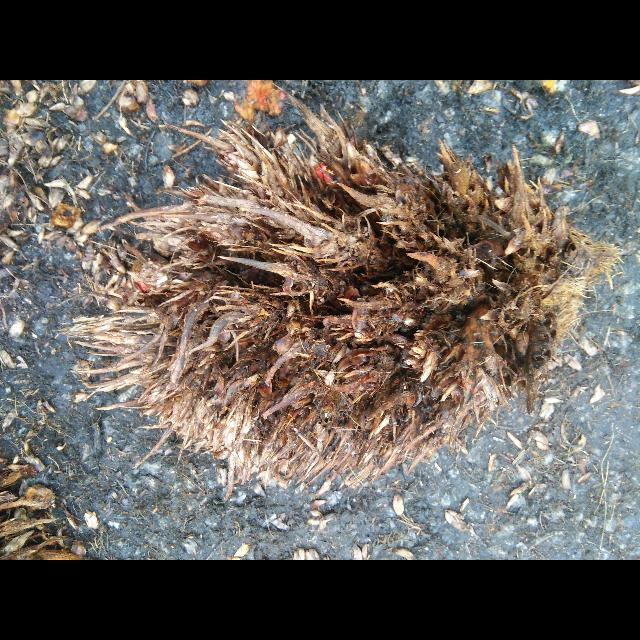Empty: (68, 95, 630, 492)
